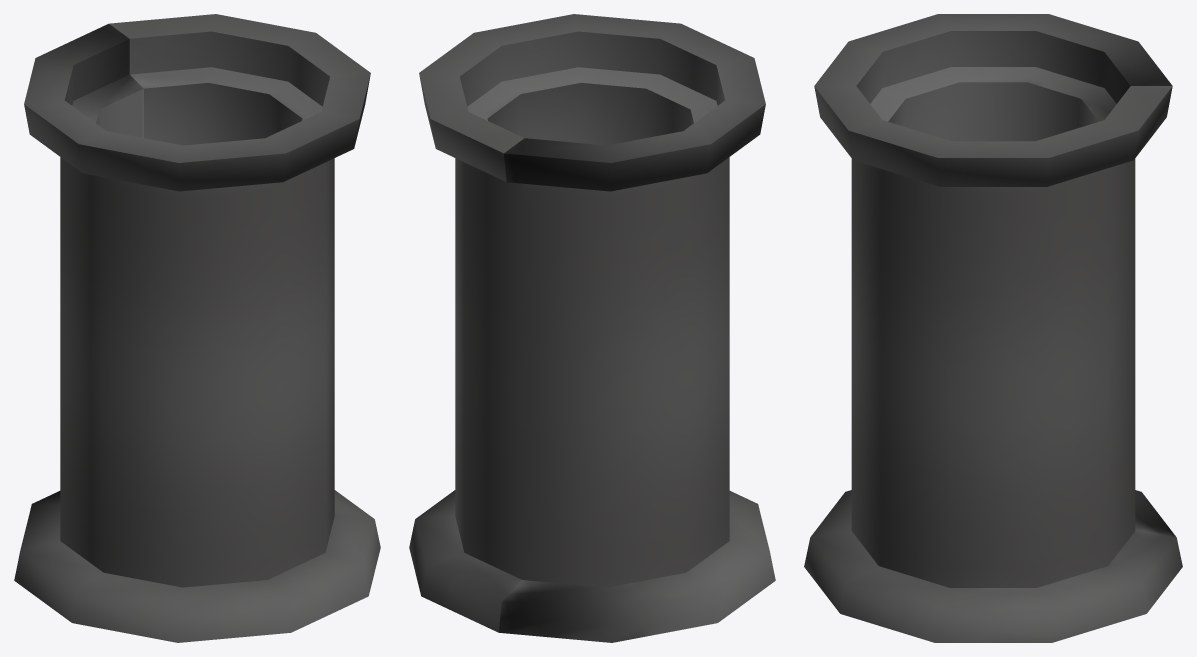
Rendered from Cano.glb.
3 renders of one model, left to right at view 1: azimuth 30°, elevation 25°; view 2: azimuth 150°, elevation 25°; view 3: azimuth 270°, elevation 25°, orthographic.
Visible parts, largest first — view 1: Cano; view 2: Cano; view 3: Cano.
Boxes of the visible parts, bbox=[...] form: Cano: bbox=[14, 14, 380, 642]; Cano: bbox=[409, 14, 775, 642]; Cano: bbox=[804, 14, 1182, 642].
Size of the model in its own units: 0.3264 by 0.4806 by 0.3432.
Materials: 1 (1 with a texture image).
